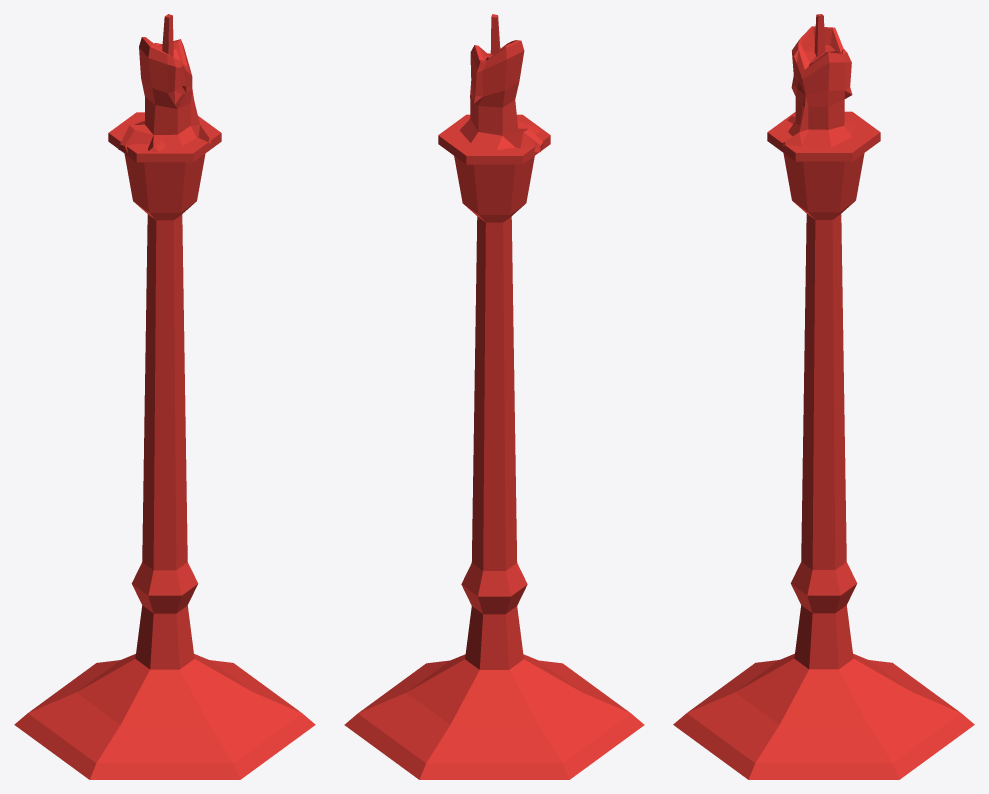
File: SM_Candle_Holder_Tall_C_Unlit_Christmas.fbx
3 renders of one model, left to right at view 1: azimuth 30°, elevation 25°; view 2: azimuth 150°, elevation 25°; view 3: azimuth 270°, elevation 25°, orthographic.
Parts seen in each view (by area): view 1: candle-holder-tall-c-unlit-christmas; view 2: candle-holder-tall-c-unlit-christmas; view 3: candle-holder-tall-c-unlit-christmas.
Part boxes in pixels (left/top/right/bottom): candle-holder-tall-c-unlit-christmas: left=14, top=14, right=315, bottom=779; candle-holder-tall-c-unlit-christmas: left=344, top=14, right=644, bottom=779; candle-holder-tall-c-unlit-christmas: left=673, top=14, right=974, bottom=779.
Bounding box in the file's own units: 0.1644 × 0.4931 × 0.1898.
